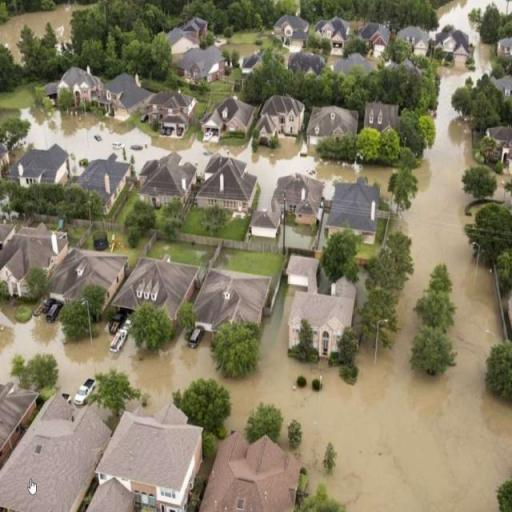flood: (0, 0, 512, 512), (22, 109, 394, 207), (0, 4, 90, 63), (493, 175, 512, 207)
house: (0, 393, 124, 512), (93, 405, 209, 512), (221, 433, 299, 512), (288, 282, 356, 366), (0, 219, 63, 302), (46, 253, 126, 312), (124, 257, 194, 316), (201, 268, 272, 325), (198, 149, 253, 215), (0, 383, 39, 475), (330, 180, 384, 242), (140, 152, 193, 210), (78, 154, 128, 210), (17, 144, 72, 193), (274, 172, 322, 226), (54, 68, 104, 118), (258, 94, 304, 148), (148, 90, 197, 140), (364, 99, 402, 150), (183, 48, 230, 84), (483, 126, 511, 168), (276, 13, 306, 43), (166, 28, 197, 55), (324, 18, 346, 54), (406, 28, 430, 54), (496, 34, 512, 62), (372, 24, 388, 52)
